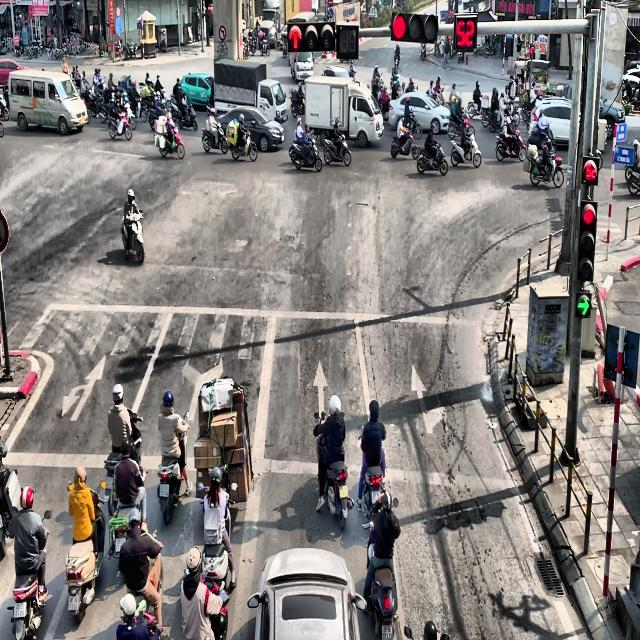CAR: (247, 546, 367, 640), (214, 107, 285, 152), (388, 92, 452, 134), (180, 72, 214, 111), (0, 57, 23, 87)
MOTORBIKE: (64, 486, 107, 623), (9, 510, 51, 640), (362, 521, 398, 639), (157, 410, 190, 526), (108, 465, 148, 558), (317, 436, 354, 530), (356, 424, 387, 517), (0, 439, 22, 558), (529, 144, 564, 188), (288, 133, 322, 172), (449, 130, 482, 168), (121, 210, 144, 264), (412, 141, 448, 175), (154, 124, 184, 160), (495, 128, 526, 162), (169, 94, 198, 130), (322, 132, 352, 166), (231, 128, 258, 162), (390, 128, 418, 159), (202, 122, 228, 154), (393, 111, 422, 139), (447, 112, 475, 140), (108, 108, 132, 140), (289, 90, 305, 118)
TRAFFIC_LIGHT: (576, 154, 599, 283), (389, 10, 438, 42), (287, 20, 336, 52), (453, 13, 478, 52), (581, 156, 599, 186)
TRUCK: (304, 75, 384, 148), (214, 58, 288, 123)
